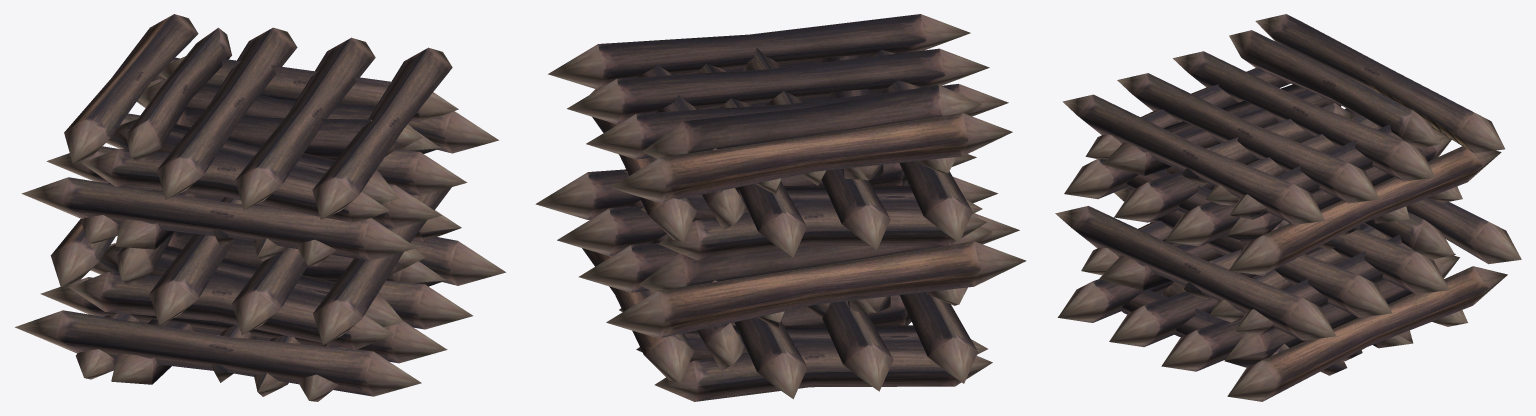
File: object_torchwood.fbx
3 views of the same model, side by side, from view 1: azimuth 30°, elevation 25°; view 2: azimuth 150°, elevation 25°; view 3: azimuth 270°, elevation 25° (orthographic). The views are drawn at different scales.
Visible parts, largest first — view 1: object_torchwood-0; view 2: object_torchwood-0; view 3: object_torchwood-0.
Boxes of the visible parts, x1=… form: object_torchwood-0: x1=15, y1=14, x2=505, y2=401; object_torchwood-0: x1=535, y1=14, x2=1026, y2=401; object_torchwood-0: x1=1055, y1=14, x2=1521, y2=401.
Bounding box in the file's own units: 1.74 × 1.04 × 1.76.
